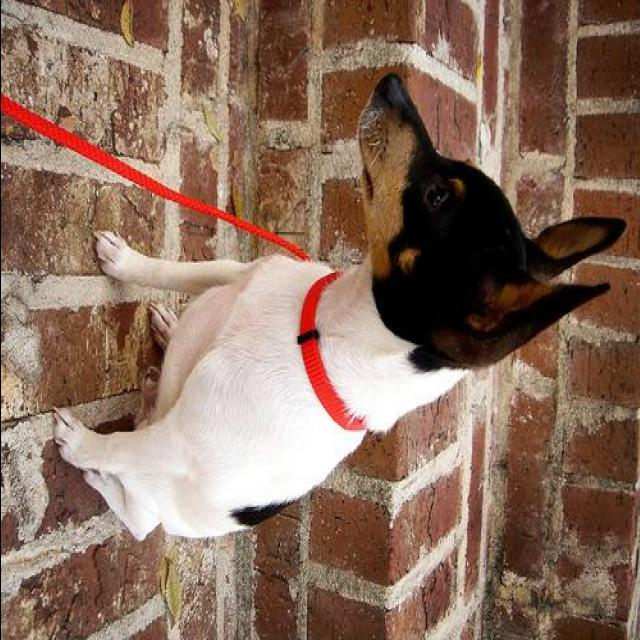toy_terrier: (19, 69, 625, 542)
